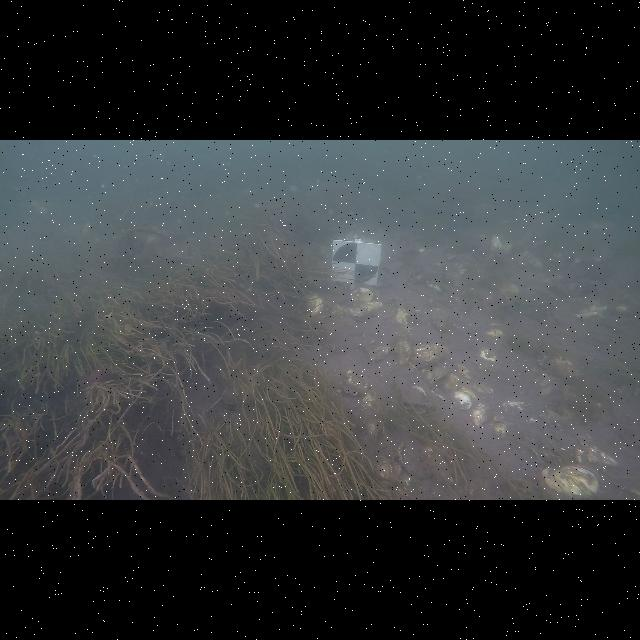Oyster-Closed: (541, 466, 599, 497), (410, 342, 451, 369), (575, 441, 618, 466), (392, 331, 412, 366), (342, 370, 369, 394), (452, 386, 476, 410), (472, 349, 496, 372), (423, 365, 449, 386), (491, 415, 511, 439), (377, 459, 392, 486), (471, 404, 489, 426), (395, 303, 409, 327), (368, 346, 389, 360), (352, 288, 372, 301), (502, 401, 525, 411)
Oyster-Open: (345, 300, 384, 323), (396, 438, 416, 477), (408, 307, 421, 325)
